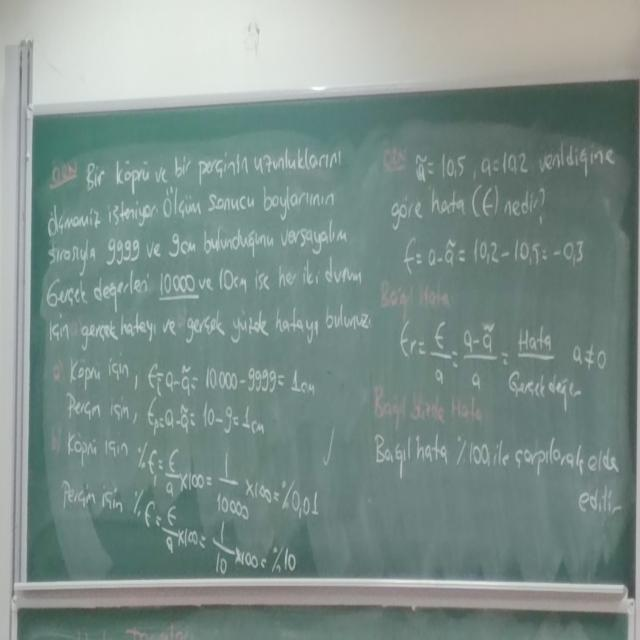math: (137, 352, 339, 582), (392, 313, 609, 401), (400, 233, 590, 283), (410, 146, 533, 192)
text: (41, 146, 374, 345), (373, 427, 624, 530), (58, 348, 132, 526)
